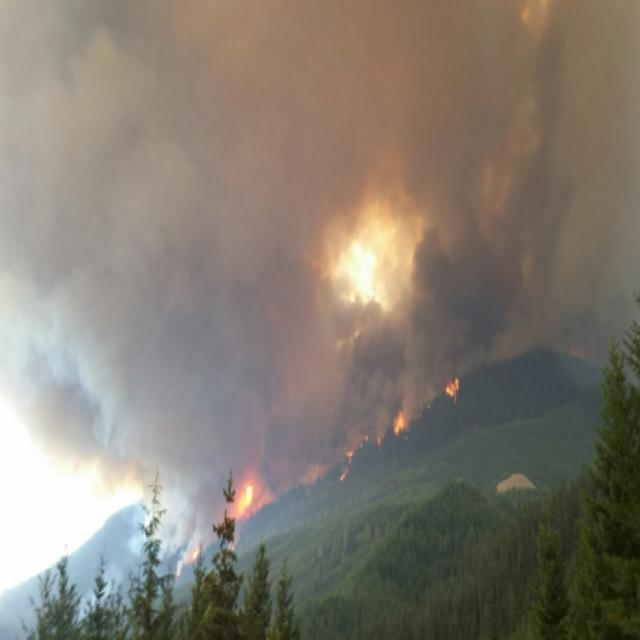Fire: (322, 224, 404, 322), (218, 472, 256, 524), (440, 367, 463, 409), (389, 404, 414, 436)
Smoke: (0, 0, 562, 492)
